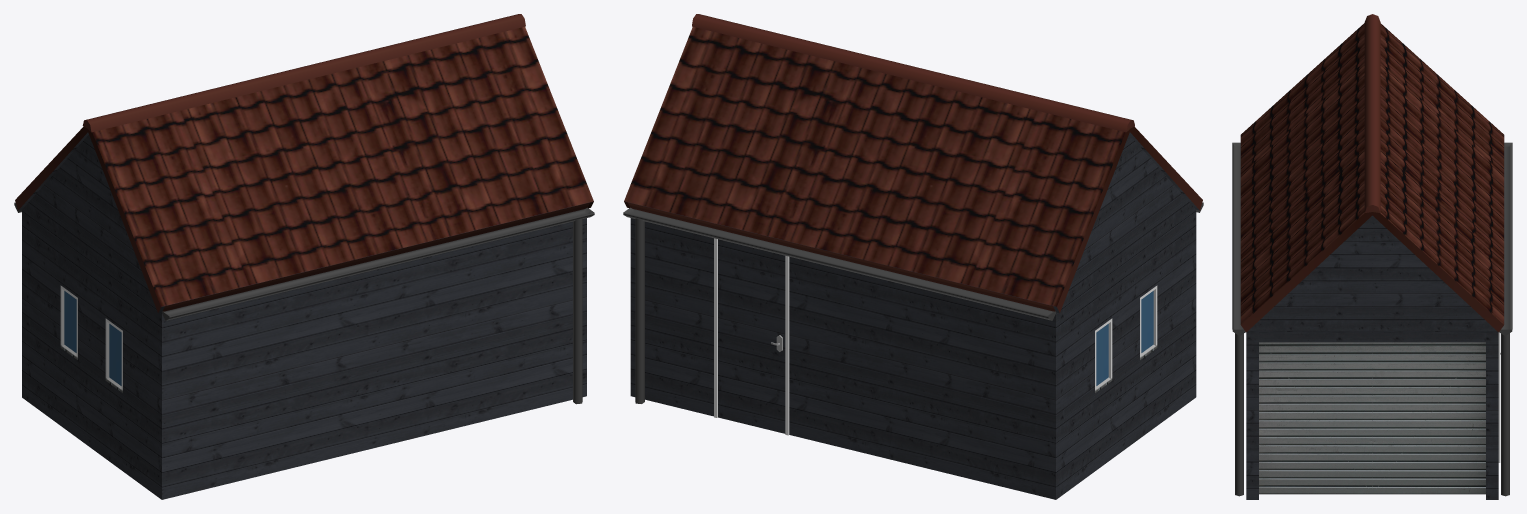
The model's file is Schuur groot rechts deel 4.fbx.
3 renders of one model, left to right at view 1: azimuth 30°, elevation 25°; view 2: azimuth 150°, elevation 25°; view 3: azimuth 270°, elevation 25°, orthographic. The views are drawn at different scales.
Parts seen in each view (by area): view 1: Schuur_groot_rechts_deel_4; view 2: Schuur_groot_rechts_deel_4; view 3: Schuur_groot_rechts_deel_4.
Boxes of the visible parts, left/top/right/bottom form: Schuur_groot_rechts_deel_4: left=14, top=14, right=594, bottom=499; Schuur_groot_rechts_deel_4: left=623, top=14, right=1203, bottom=499; Schuur_groot_rechts_deel_4: left=1232, top=14, right=1512, bottom=499.
Bounding box in the file's own units: 5.36 × 3.89 × 3.32.
